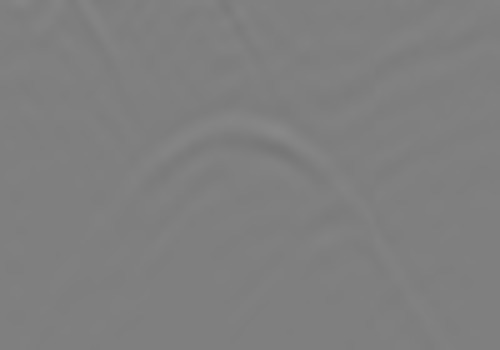hyperbola: (89, 105, 394, 286)
